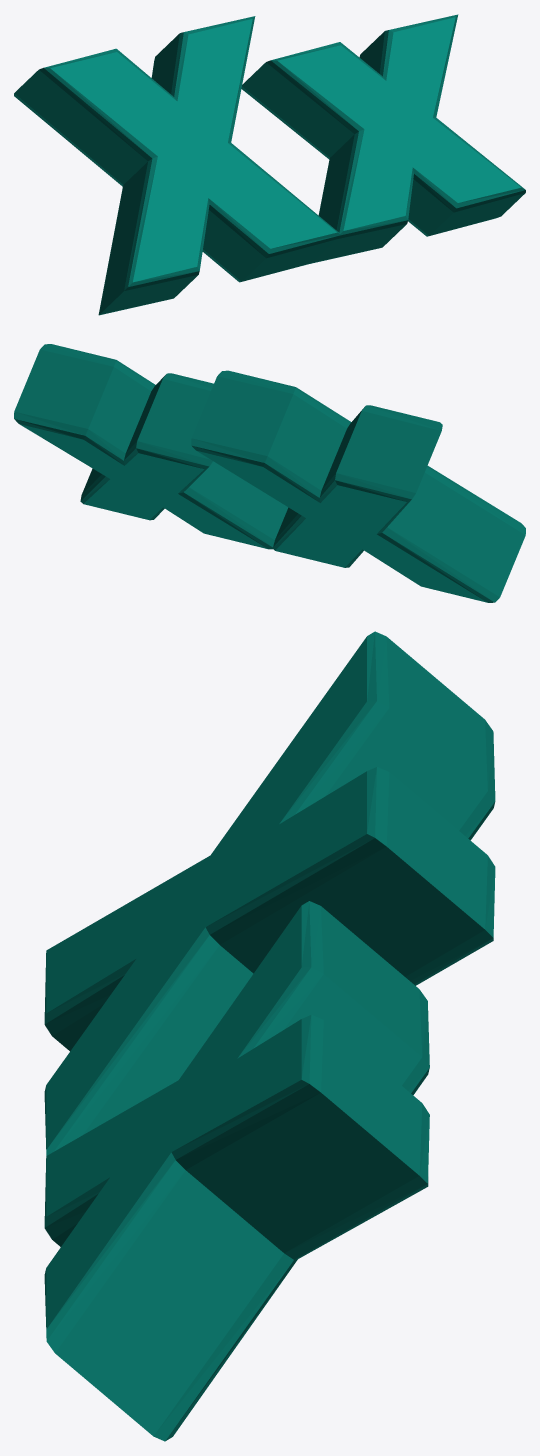
3 views of the same model, one above another, from view 1: azimuth 30°, elevation 25°; view 2: azimuth 150°, elevation 25°; view 3: azimuth 270°, elevation 25° (orthographic). The views are drawn at different scales.
Visible parts, largest first — view 1: letter; view 2: letter; view 3: letter.
Boxes of the visible parts, x1,y1,x2,y2 form: letter: [14, 14, 525, 315]; letter: [14, 344, 525, 602]; letter: [44, 631, 495, 1441].
Size of the model in its own units: 1.94 by 0.9716 by 0.9377.
